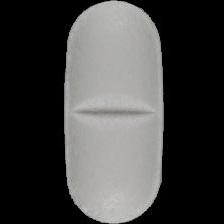62037-830: (0, 0, 224, 224)
